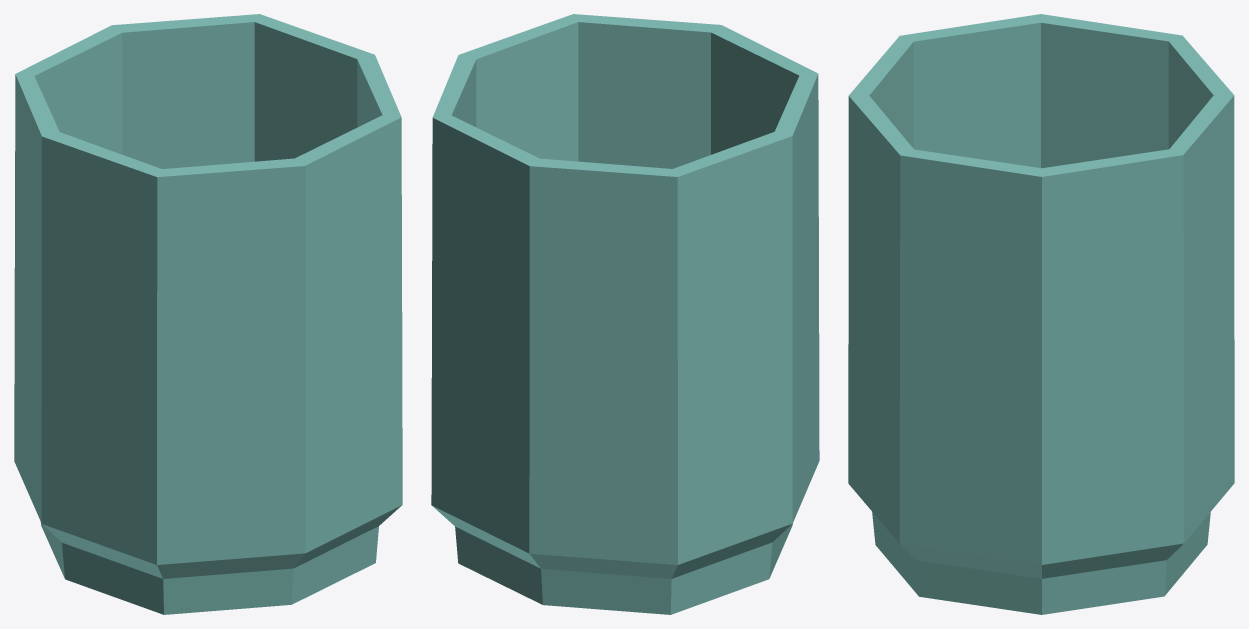
File: Kitchen_2_Glass.fbx
The picture shows the model from 3 angles, left to right: view 1: azimuth 30°, elevation 25°; view 2: azimuth 150°, elevation 25°; view 3: azimuth 270°, elevation 25°; orthographic projection.
Visible parts, largest first — view 1: Kitchen_2_Glass; view 2: Kitchen_2_Glass; view 3: Kitchen_2_Glass.
Part boxes in pixels (x1=…): Kitchen_2_Glass: x1=14, y1=14, x2=402, y2=614; Kitchen_2_Glass: x1=431, y1=14, x2=819, y2=614; Kitchen_2_Glass: x1=848, y1=14, x2=1234, y2=614.
Bounding box in the file's own units: 12.66 × 12.66 × 16.26.
